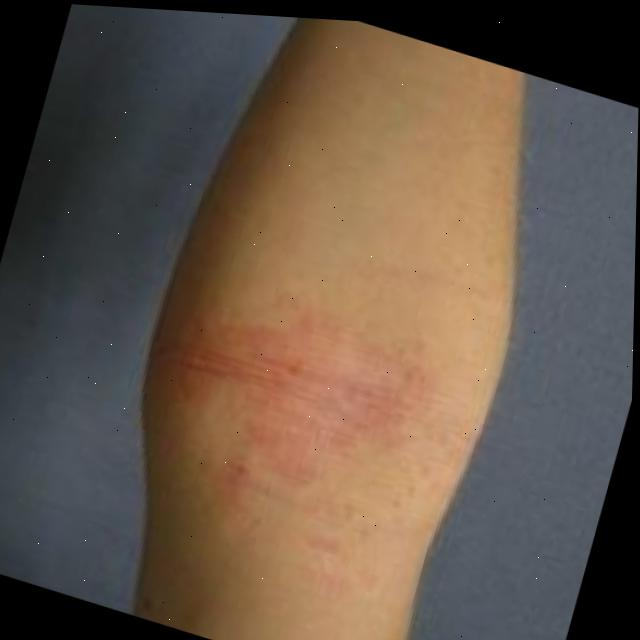Eczema: (195, 302, 426, 497)
